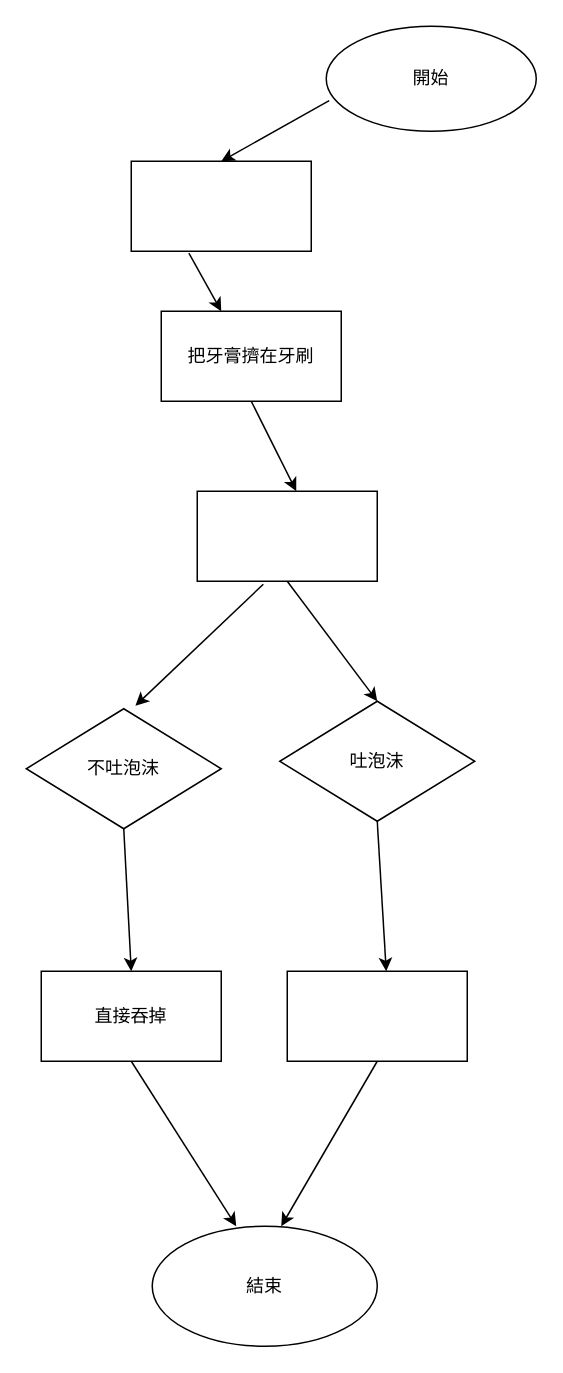
Some shapes in this 563 by 1373 pixel diagram are drawn without their labels. The shapes that lost their labels are listed below. From the top down, each one's centre as x and y in pixels, then its label:
At (x=220, y=205): "用杯子裝水".
At (x=286, y=535): "刷牙".
At (x=376, y=1015): "漱口".
